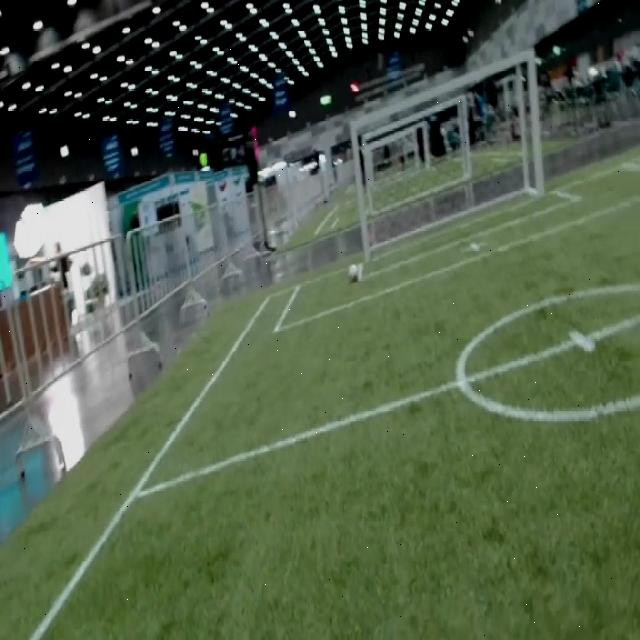ball: (348, 264, 359, 282)
goalpost: (534, 170, 545, 200), (362, 240, 372, 264)
